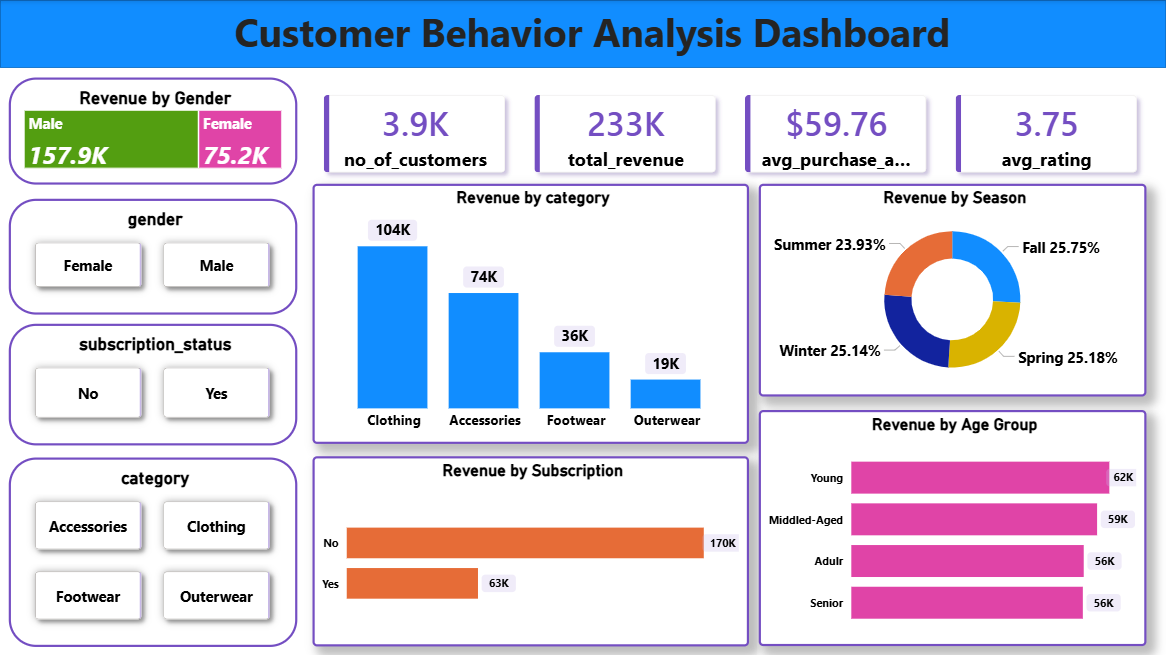

The dashboard page shown, as its layout file describes it:
{"tool":"powerbi","page":{"name":"Sales & Customer Overview","canvas":[1280,720],"ordinal":0},"visuals":[{"type":"cardVisual","fields":{"Data":["public customer.no_of_customers","public customer.total_revenue","public customer.avg_purchase_amount","public customer.avg_rating"]},"box":[327,74.8,953.3,143.7],"z":0},{"type":"shape","box":[0,0,1280.3,74.6],"z":1000},{"type":"textbox","box":[100.3,0,1100.1,74.1],"z":2000},{"type":"clusteredColumnChart","title":"Revenue by category","fields":{"Category":["public customer.category"],"Y":["Sum(public customer.purchase_amount)"]},"box":[343.2,202.4,479.6,286],"z":3000},{"type":"donutChart","title":"Revenue by Season","fields":{"Category":["public customer.season"],"Y":["Sum(public customer.purchase_amount)"]},"box":[832.7,202,425.8,234],"z":4000},{"type":"barChart","title":"Revenue by Subscription","fields":{"Y":["Sum(public customer.purchase_amount)"],"Category":["public customer.subscription_status"]},"box":[343.1,500.9,478.9,208.6],"z":5000},{"type":"barChart","title":"Revenue by Age Group","fields":{"Category":["public customer.age_group"],"Y":["Sum(public customer.purchase_amount)"]},"box":[832.9,450.1,425.4,259.3],"z":6000},{"type":"advancedSlicerVisual","fields":{"Values":["public customer.gender"]},"box":[10.3,218.5,316.8,127.6],"z":7000},{"type":"advancedSlicerVisual","fields":{"Values":["public customer.category"]},"box":[10.3,501.6,316.8,208.3],"z":8000},{"type":"advancedSlicerVisual","fields":{"Values":["public customer.subscription_status"]},"box":[10.3,354.9,316.8,133.5],"z":9000},{"type":"treemap","title":"Revenue by Gender","fields":{"Group":["public customer.gender"],"Values":["public customer.total_revenue"]},"box":[10.3,85.1,316.8,117.3],"z":10000}]}

Visuals, with their boxes in screenshot pixels (x1, y1, x2, y2), scaled from the page's 1280x720 canvas onto the 1166x655 screenshot:
cardVisual - public customer.no_of_customers x public customer.total_revenue: detection(298, 68, 1165, 199)
shape: detection(0, 0, 1165, 68)
textbox: detection(91, 0, 1093, 67)
"Revenue by category" clusteredColumnChart: detection(313, 184, 750, 444)
"Revenue by Season" donutChart: detection(759, 184, 1146, 397)
"Revenue by Subscription" barChart: detection(313, 456, 749, 645)
"Revenue by Age Group" barChart: detection(759, 409, 1146, 645)
advancedSlicerVisual - public customer.gender: detection(9, 199, 298, 315)
advancedSlicerVisual - public customer.category: detection(9, 456, 298, 646)
advancedSlicerVisual - public customer.subscription_status: detection(9, 323, 298, 444)
"Revenue by Gender" treemap: detection(9, 77, 298, 184)
